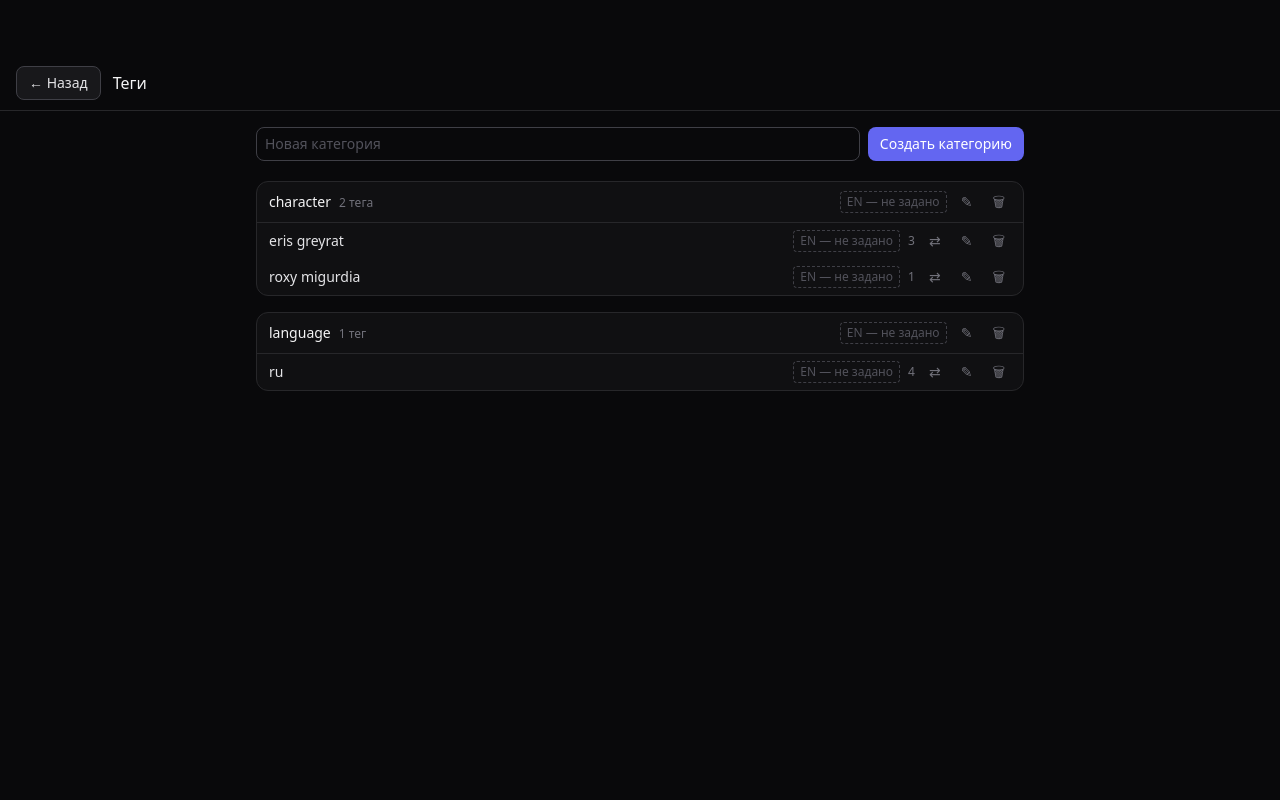
Scenario: TagsScreen: категории › удаление - с подтверждением, числом тегов и записей
Expected: the element named "Категория character" is shown, [256,181,1024,296]
Click the button named "Удалить категорию «character»": (999, 202) [986,190,1011,214]
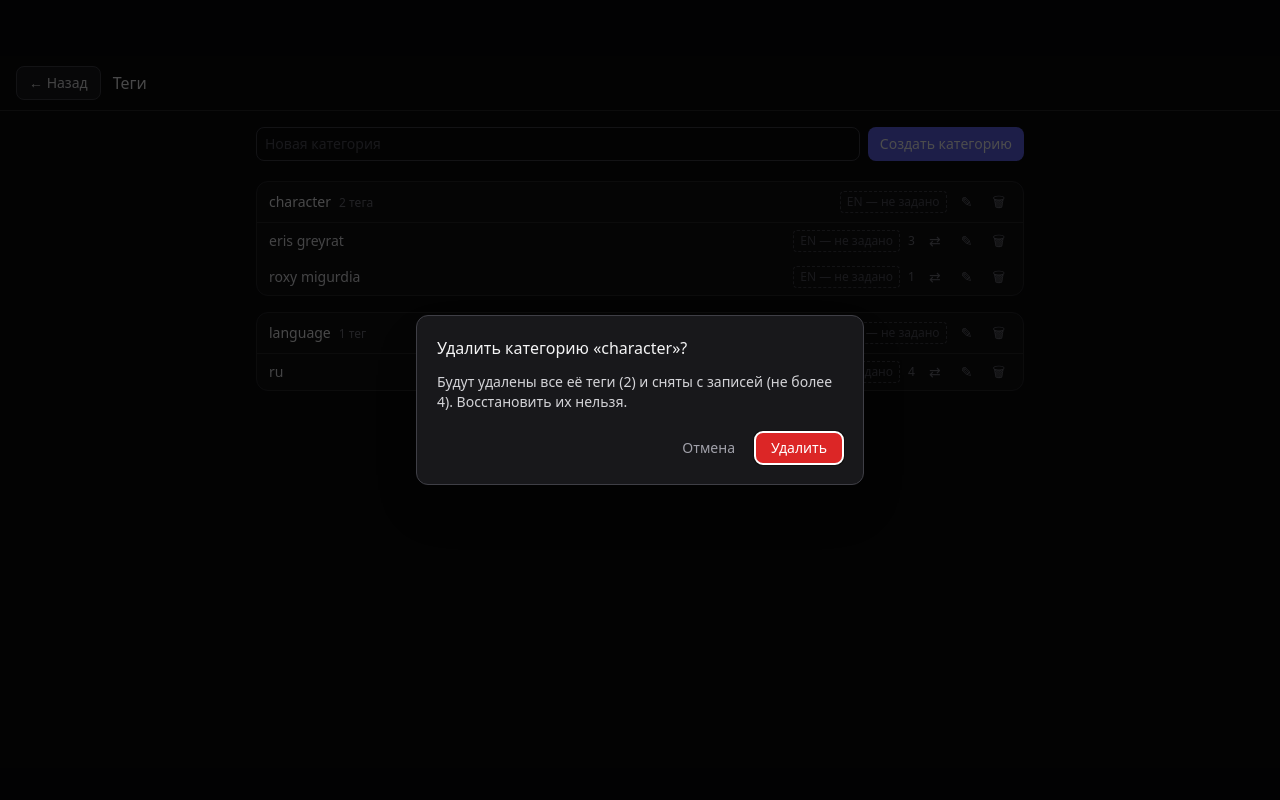
Result: the dialog "Удалить категорию «character»?" shows "все её теги (2)" at [437,372,832,411]
Result: the dialog "Удалить категорию «character»?" shows "не более 4" at [437,372,832,411]
Click the button "Удалить": (799, 448) [755,432,843,464]
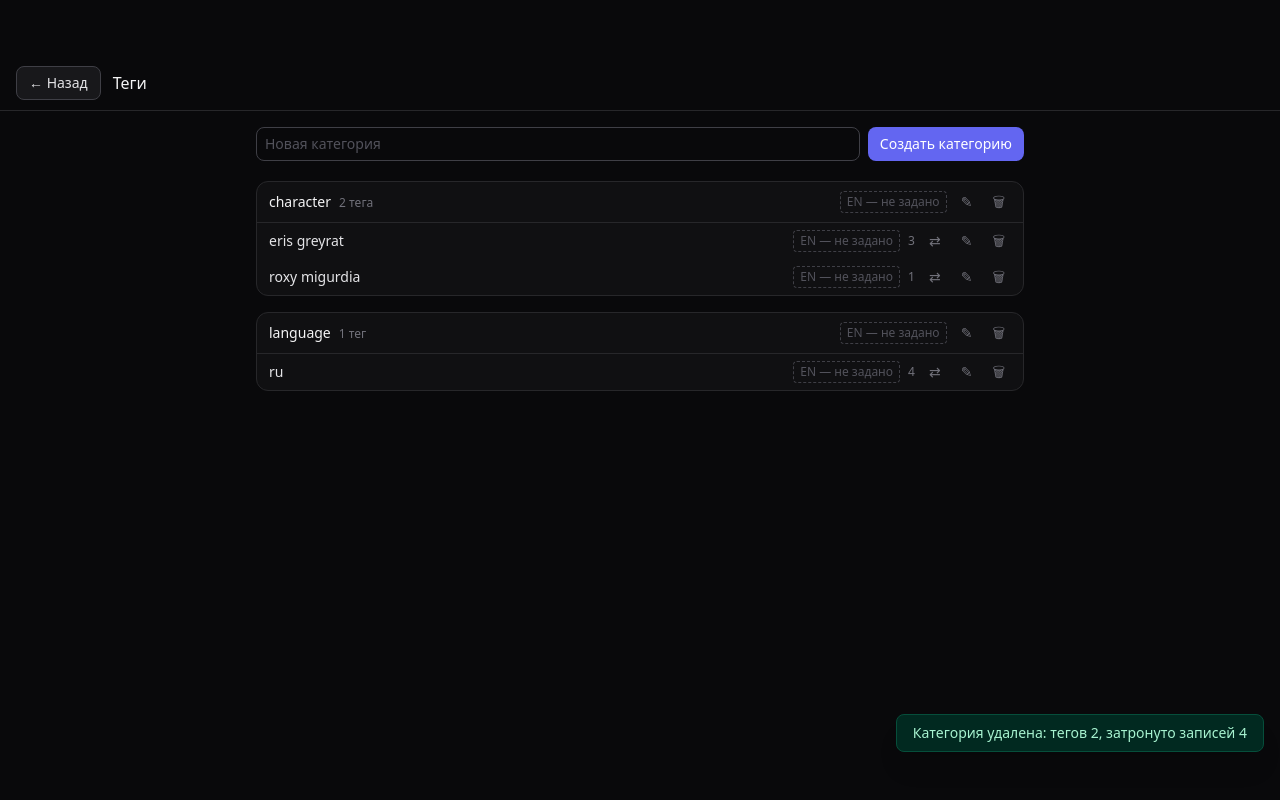
Result: the text "Категория удалена: тегов 2, затронуто записей 4" is shown at [896,714,1264,752]
